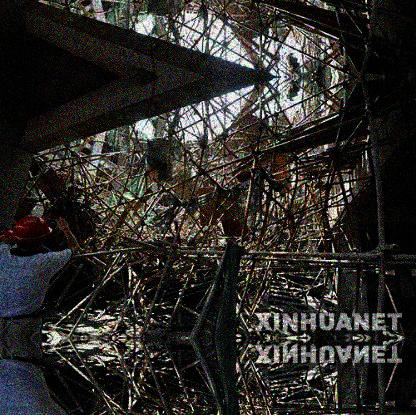helmet: (9, 217, 54, 247)
